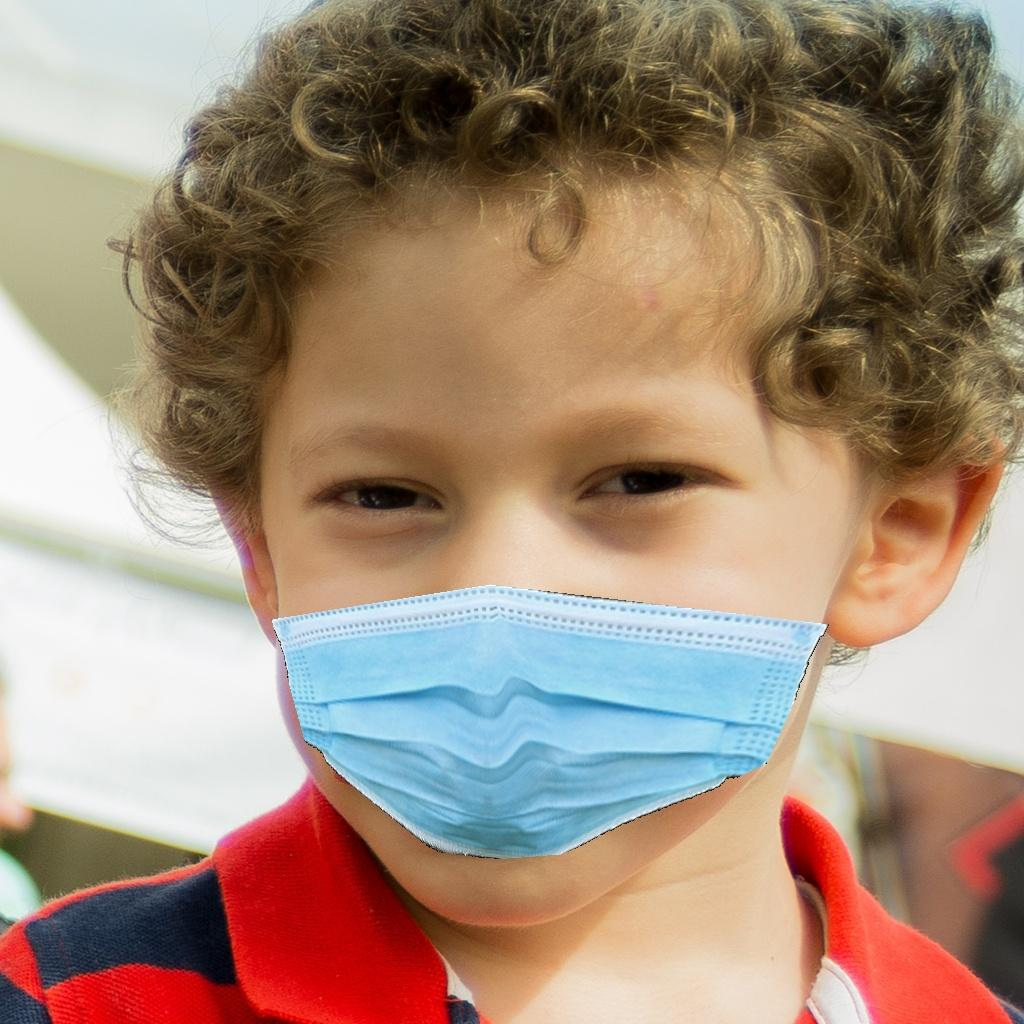Com Máscara: (224, 266, 800, 882)
